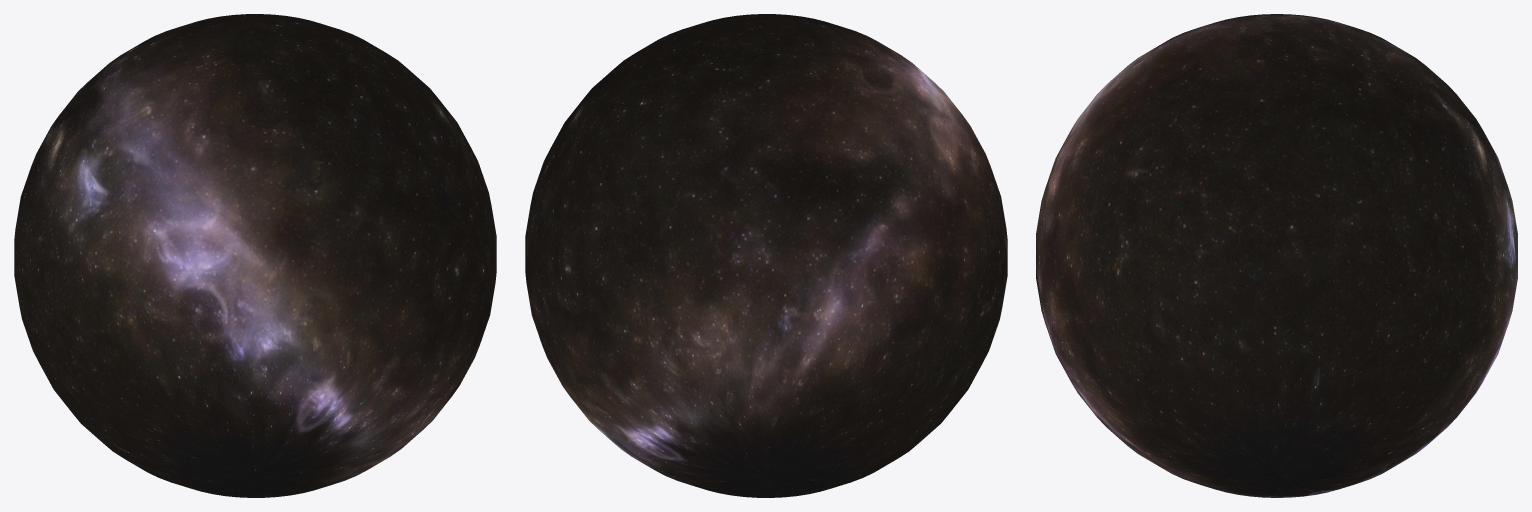
Rendered from sky_model.glb.
3 renders of one model, left to right at view 1: azimuth 30°, elevation 25°; view 2: azimuth 150°, elevation 25°; view 3: azimuth 270°, elevation 25°, orthographic.
Parts seen in each view (by area): view 1: PanoSphere; view 2: PanoSphere; view 3: PanoSphere.
Part boxes in pixels (x1,y1,x2,y2): PanoSphere: [14, 14, 496, 497]; PanoSphere: [525, 14, 1007, 497]; PanoSphere: [1036, 14, 1517, 497].
Size of the model in its own units: 9.97 by 10 by 9.95.
1 material, 1 textured.
